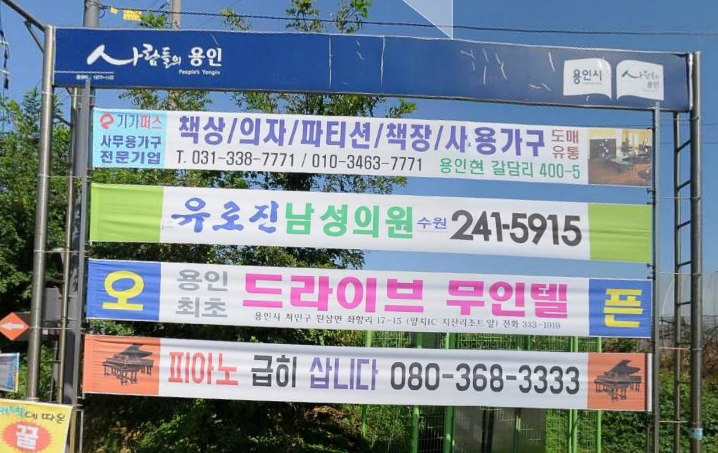banner: (31, 89, 714, 198), (30, 318, 716, 423), (29, 174, 716, 275), (35, 250, 710, 351)
